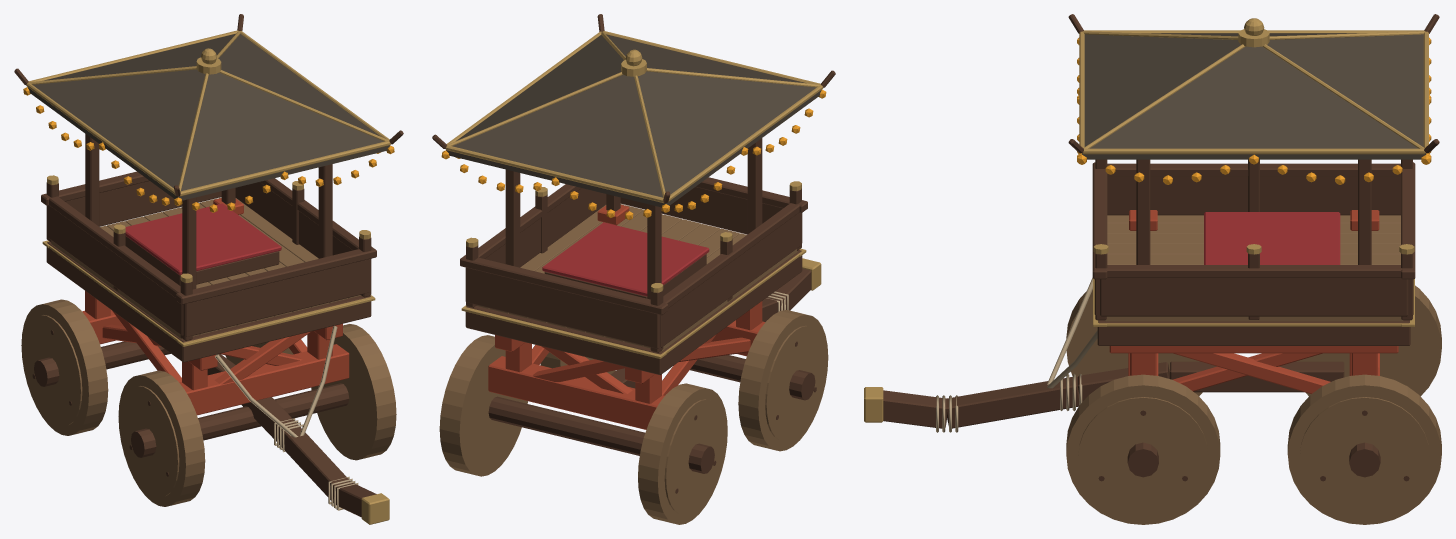
File: ganesh_rath.glb
3 views of the same model, side by side, from view 1: azimuth 30°, elevation 25°; view 2: azimuth 150°, elevation 25°; view 3: azimuth 270°, elevation 25° (orthographic). The views are drawn at different scales.
Visible parts, largest first — view 1: RoofRoot_Mesh, PlatformRoot_Mesh, ChassisRoot_Mesh, PavilionRoot_Mesh, Wheel_FL_Mesh, Wheel_RL_Mesh, Wheel_FR_Mesh, DrawbeamRoot_Mesh, GarlandRoot_Mesh; view 2: RoofRoot_Mesh, PlatformRoot_Mesh, ChassisRoot_Mesh, PavilionRoot_Mesh, Wheel_FL_Mesh, Wheel_RL_Mesh, Wheel_RR_Mesh, DrawbeamRoot_Mesh, GarlandRoot_Mesh; view 3: PlatformRoot_Mesh, RoofRoot_Mesh, Wheel_RR_Mesh, Wheel_FR_Mesh, DrawbeamRoot_Mesh, PavilionRoot_Mesh, ChassisRoot_Mesh, Wheel_RL_Mesh, Wheel_FL_Mesh, GarlandRoot_Mesh.
Boxes of the visible parts, x1,y1,x2,y2 form: RoofRoot_Mesh: [14, 14, 403, 200]; PlatformRoot_Mesh: [41, 171, 376, 362]; ChassisRoot_Mesh: [82, 291, 349, 440]; PavilionRoot_Mesh: [85, 134, 332, 289]; Wheel_FL_Mesh: [118, 370, 205, 506]; Wheel_RL_Mesh: [21, 299, 108, 435]; Wheel_FR_Mesh: [311, 324, 396, 460]; DrawbeamRoot_Mesh: [207, 325, 389, 524]; GarlandRoot_Mesh: [23, 87, 394, 212]; RoofRoot_Mesh: [432, 14, 835, 207]; PlatformRoot_Mesh: [460, 177, 807, 375]; ChassisRoot_Mesh: [488, 301, 765, 455]; PavilionRoot_Mesh: [505, 138, 762, 299]; Wheel_FL_Mesh: [738, 310, 828, 451]; Wheel_RL_Mesh: [638, 383, 727, 524]; Wheel_RR_Mesh: [439, 335, 527, 476]; DrawbeamRoot_Mesh: [610, 258, 821, 388]; GarlandRoot_Mesh: [441, 89, 826, 219]; PlatformRoot_Mesh: [1092, 159, 1415, 345]; RoofRoot_Mesh: [1068, 14, 1439, 159]; Wheel_RR_Mesh: [1287, 374, 1441, 524]; Wheel_FR_Mesh: [1066, 374, 1220, 524]; DrawbeamRoot_Mesh: [864, 278, 1344, 432]; PavilionRoot_Mesh: [1129, 159, 1379, 264]; ChassisRoot_Mesh: [1109, 346, 1398, 393]; Wheel_RL_Mesh: [1296, 285, 1441, 396]; Wheel_FL_Mesh: [1066, 289, 1202, 396]; GarlandRoot_Mesh: [1077, 37, 1431, 184].
Bounding box in the file's own units: 2.1 × 3.28 × 3.84.
